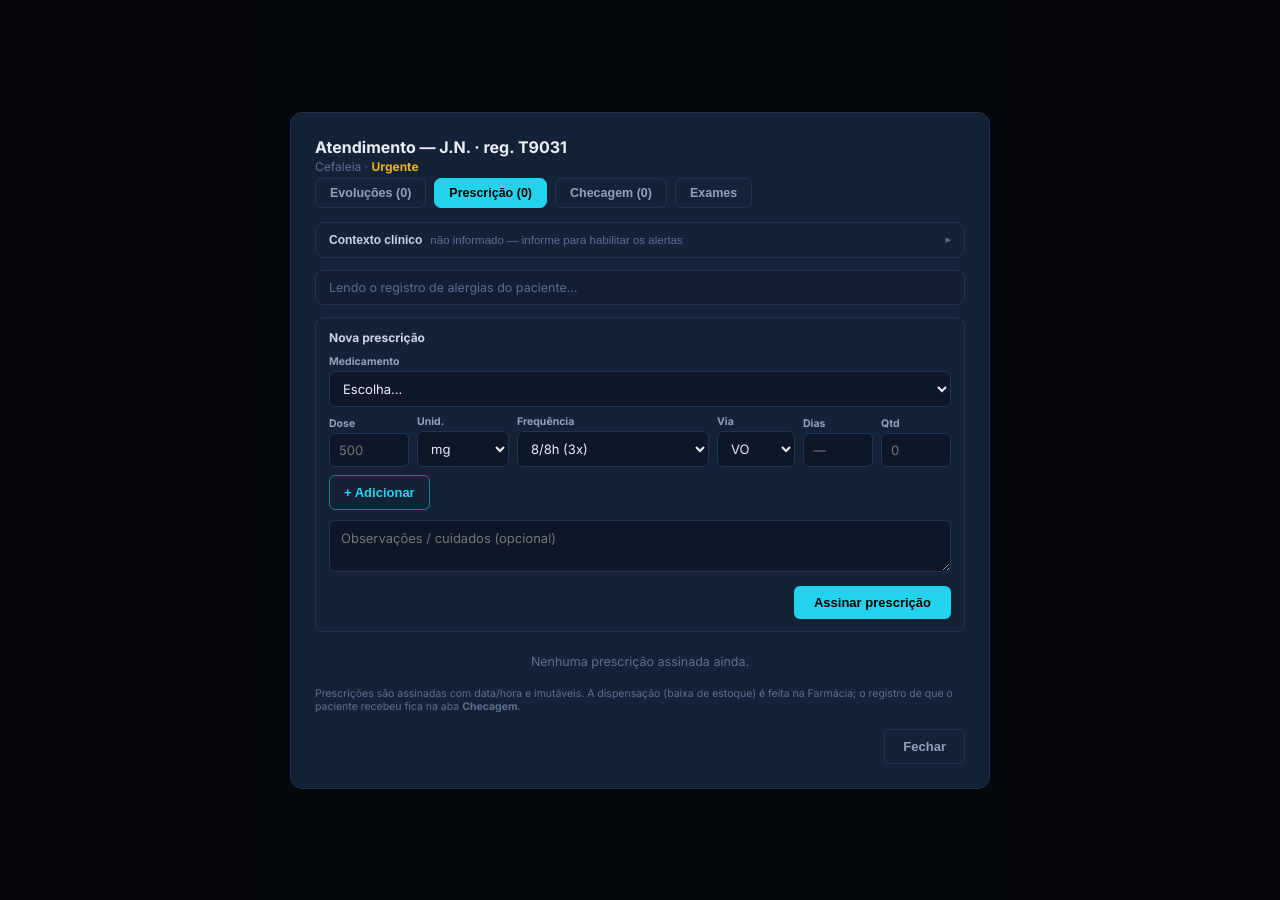
Test case: 🔴 o rascunho da prescrição não morre ao trocar de aba › ⚠️ o contexto clínico editado e NÃO salvo também sobrevive
Click the text "Contexto clínico".
click(376, 240)  # box [329, 232, 422, 246]
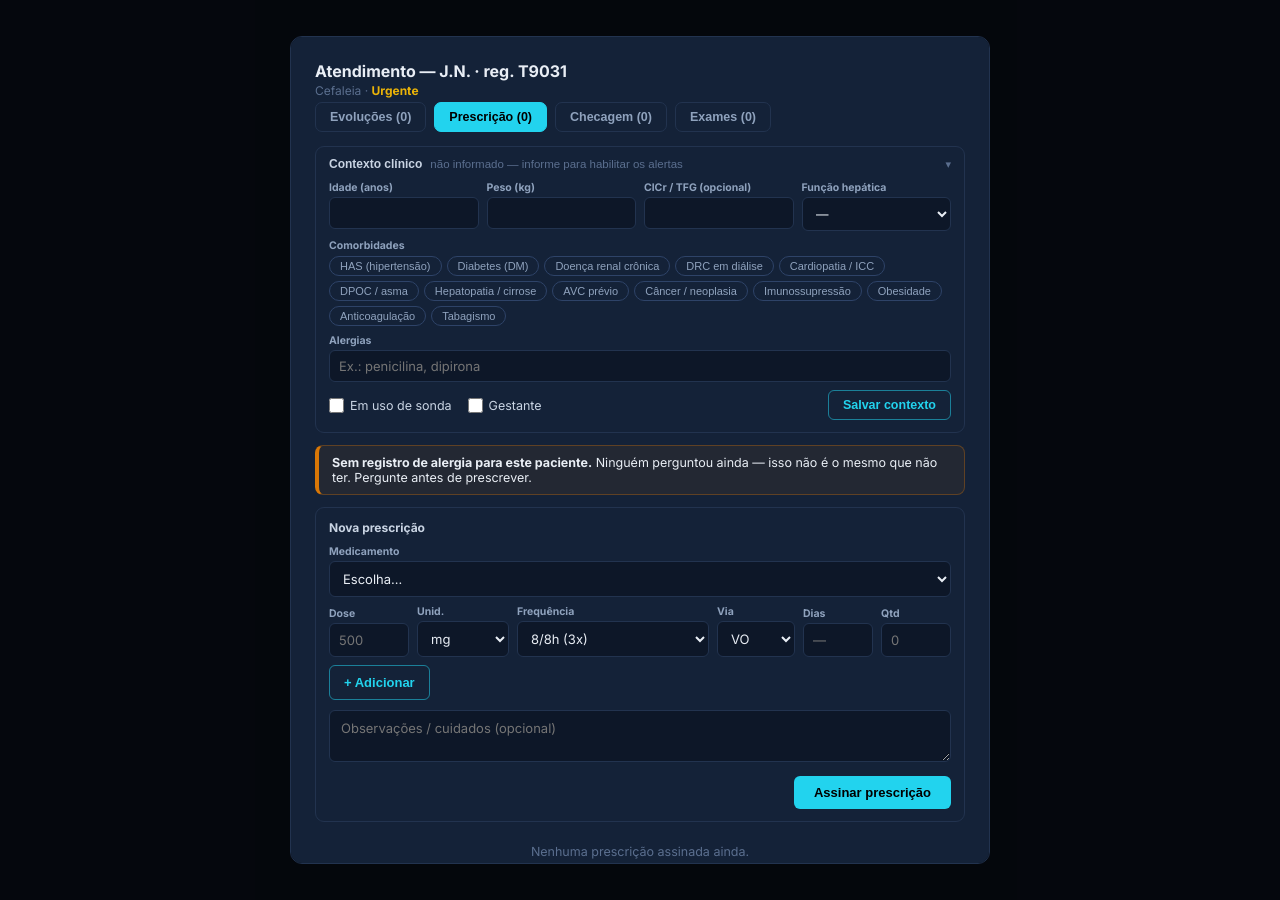
Type "penicilina" into the field with placeholder "Ex.: penicilina, dipirona".
click(640, 366); type("penicilina")  # box [329, 350, 951, 382]
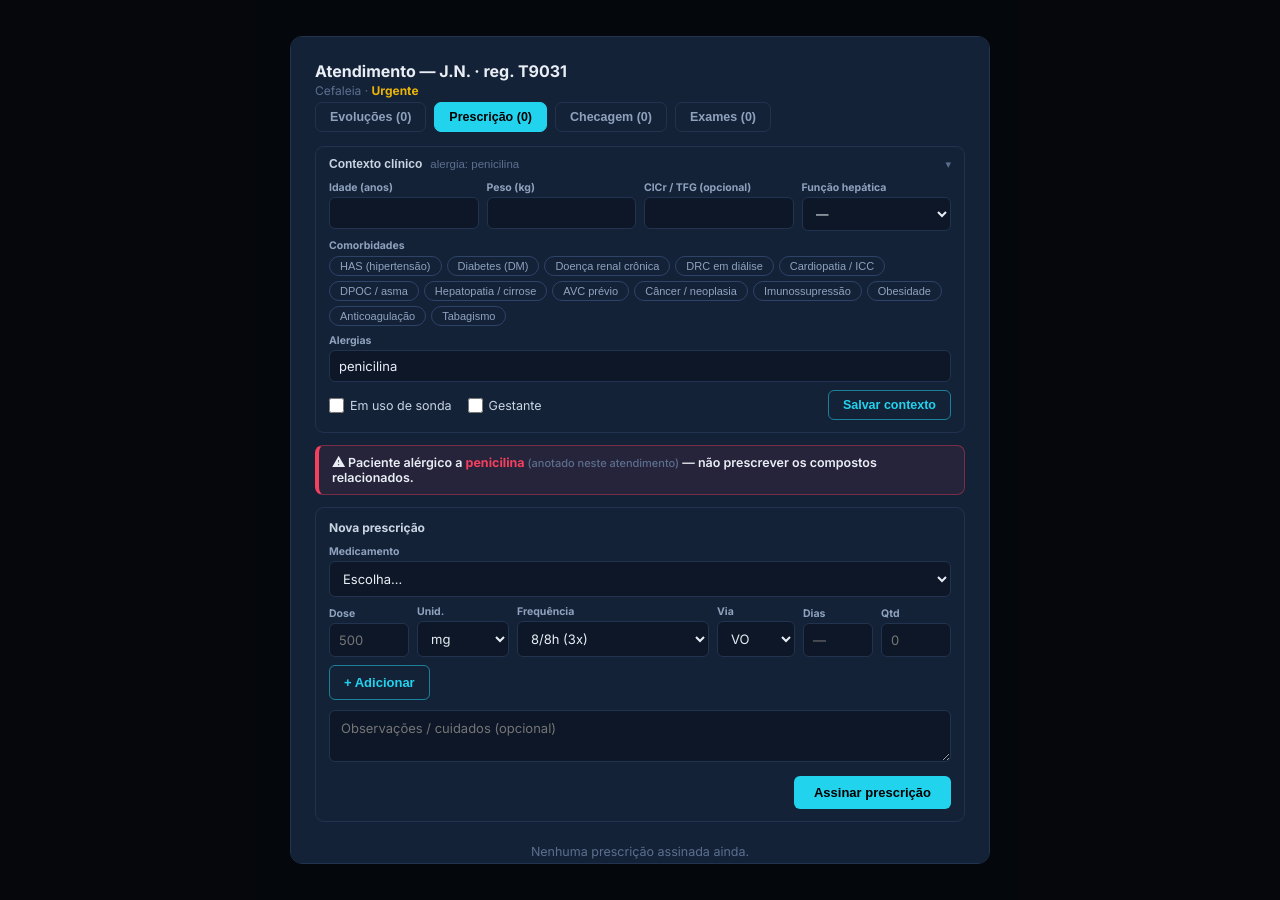
Result: the text "Paciente alérgico a" is shown at [332, 455, 462, 470]
Click the button "Evoluções (0)".
click(371, 117)  # box [315, 102, 426, 132]
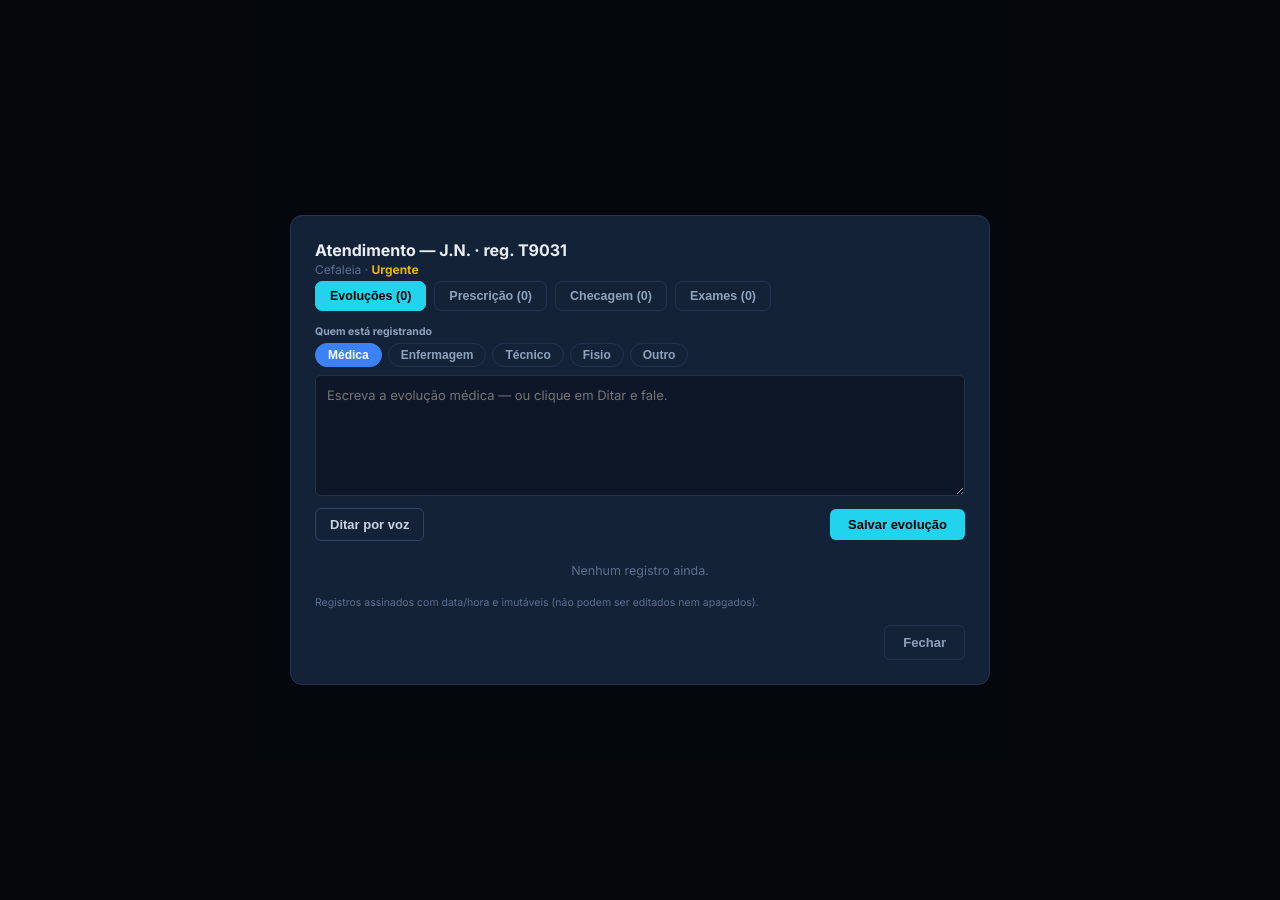
Click the button "Prescrição (0)".
click(491, 296)  # box [434, 281, 547, 311]
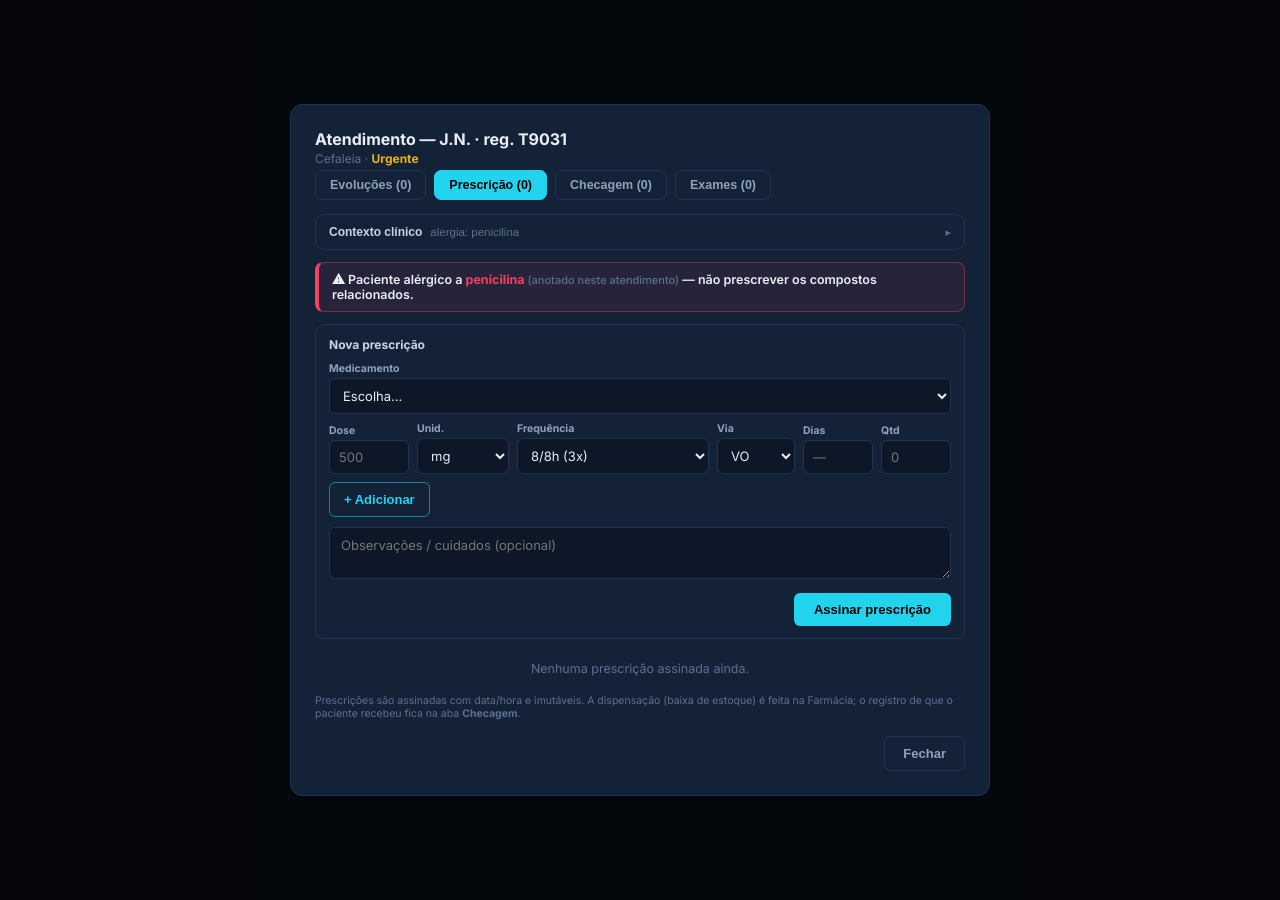
Result: the text "Paciente alérgico a" is shown at [332, 272, 462, 287]
